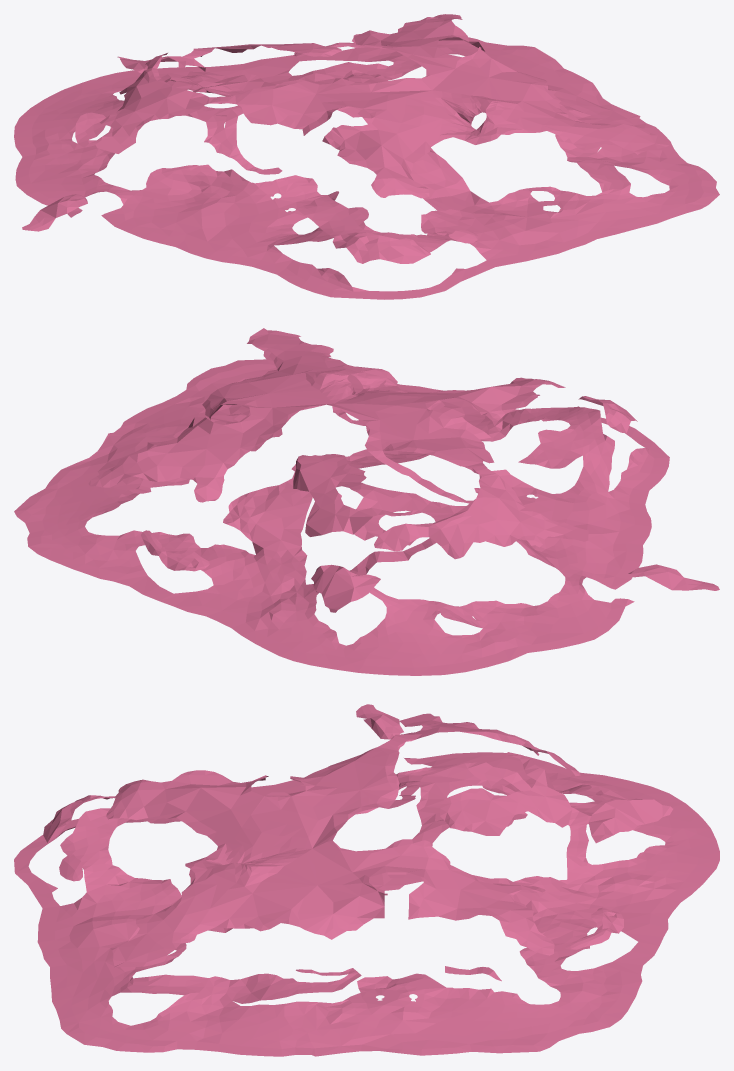
The model's file is level_collision_dirt.fbx.
3 views of the same model, one above another, from view 1: azimuth 30°, elevation 25°; view 2: azimuth 150°, elevation 25°; view 3: azimuth 270°, elevation 25° (orthographic). The views are drawn at different scales.
Parts seen in each view (by area): view 1: level_collision_dirt; view 2: level_collision_dirt; view 3: level_collision_dirt.
Boxes of the visible parts, box(x1,y1,x2,y2) form: level_collision_dirt: box(14, 14, 719, 299); level_collision_dirt: box(14, 328, 719, 675); level_collision_dirt: box(14, 704, 719, 1056).
Bounding box in the file's own units: 1533698 × 219934 × 1365235.
